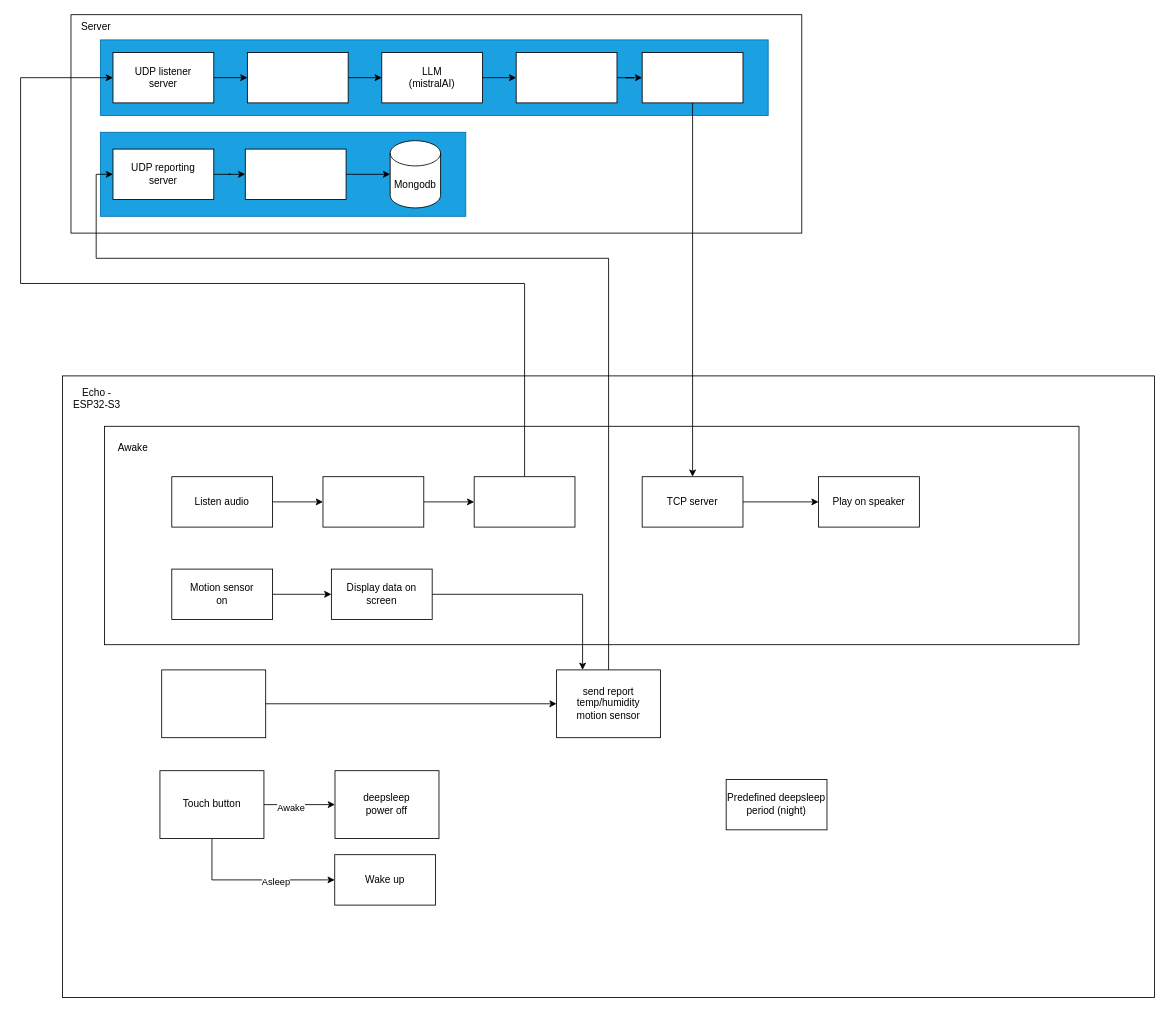
Image size: 1169x1012. Some labels were removed from this diagram. Each missing label, with the centre of its shape:
"Check for noise Silent detection" belongs at [373,501].
"Map data" belongs at [295,174].
"Send audio to server UDP" belongs at [524,501].
"STT (vosk)" belongs at [297,77].
"TCP Client" belongs at [692,77].
"TTS (piper)" belongs at [566,77].
"Wake up Every hour" belongs at [213,703].
